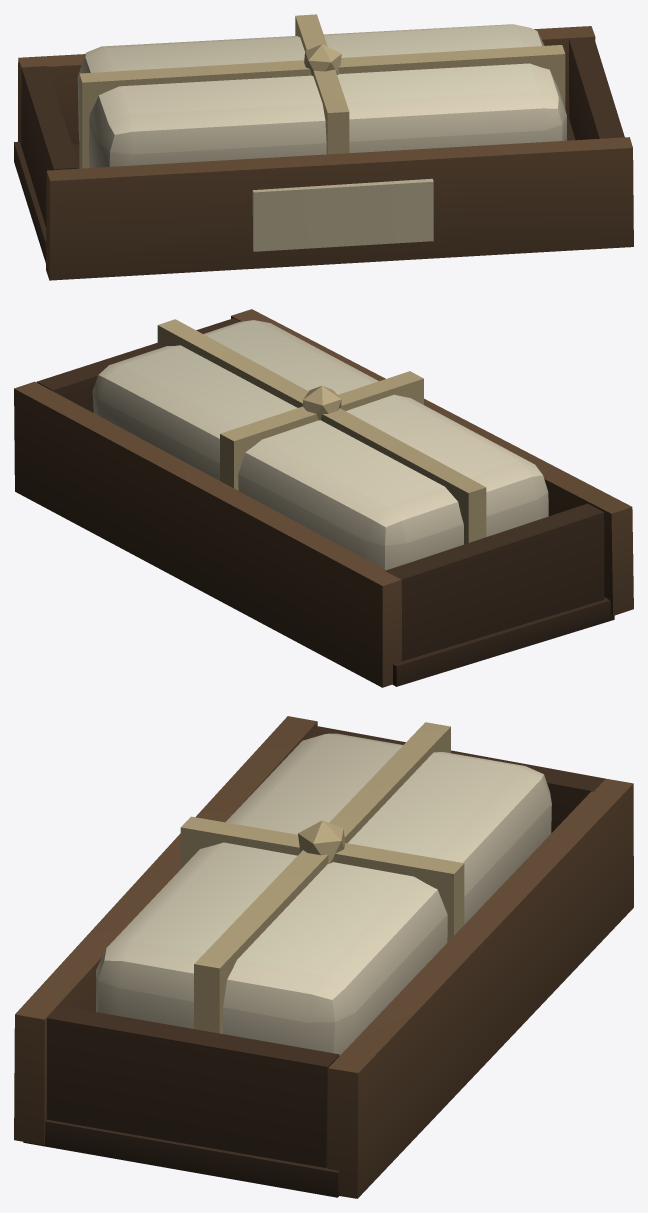
File: ph_item_bone_specimen.glb
3 views of the same model, one above another, from view 1: azimuth 30°, elevation 25°; view 2: azimuth 150°, elevation 25°; view 3: azimuth 270°, elevation 25° (orthographic). The views are drawn at different scales.
Visible parts, largest first — view 1: ph_item_bone_specimen; view 2: ph_item_bone_specimen; view 3: ph_item_bone_specimen.
Part boxes in pixels (bbox=[...]): ph_item_bone_specimen: bbox=[14, 14, 633, 280]; ph_item_bone_specimen: bbox=[14, 309, 633, 687]; ph_item_bone_specimen: bbox=[14, 716, 633, 1198].
Bounding box in the file's own units: 0.3619 × 0.0984 × 0.2691.
